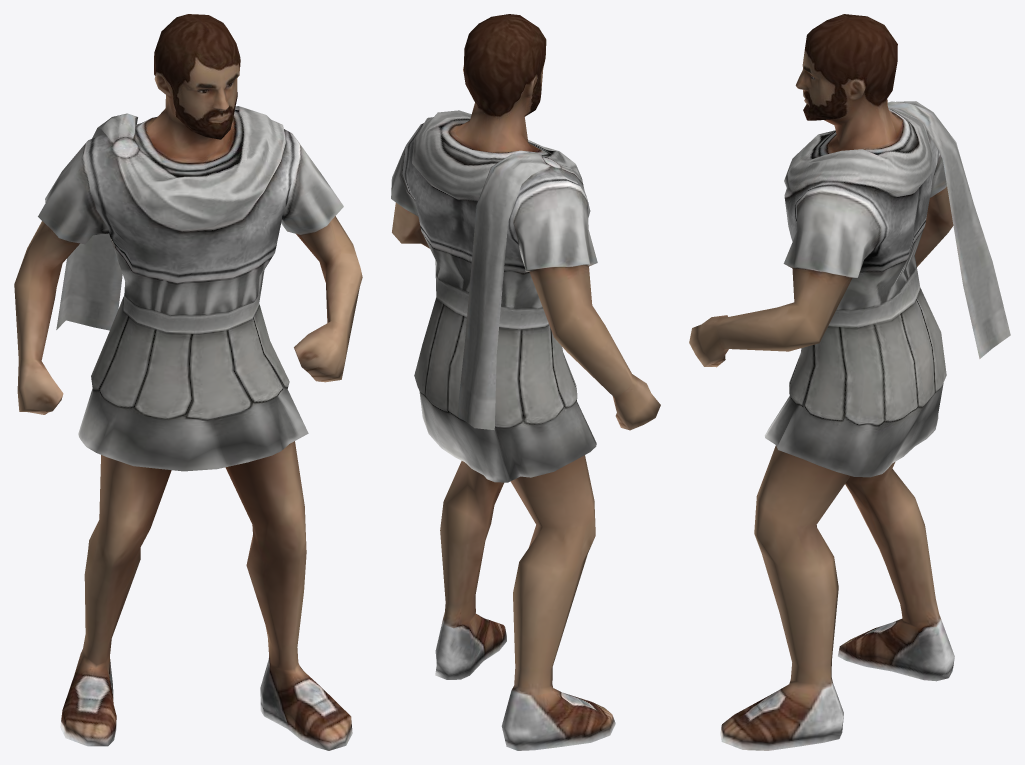
The model's file is body-mediuminfantry.glb.
3 views of the same model, side by side, from view 1: azimuth 30°, elevation 25°; view 2: azimuth 150°, elevation 25°; view 3: azimuth 270°, elevation 25° (orthographic). The views are drawn at different scales.
Size of the model in its own units: 0.9083 by 2.02 by 0.8614.
Materials: 1 (1 with a texture image).
